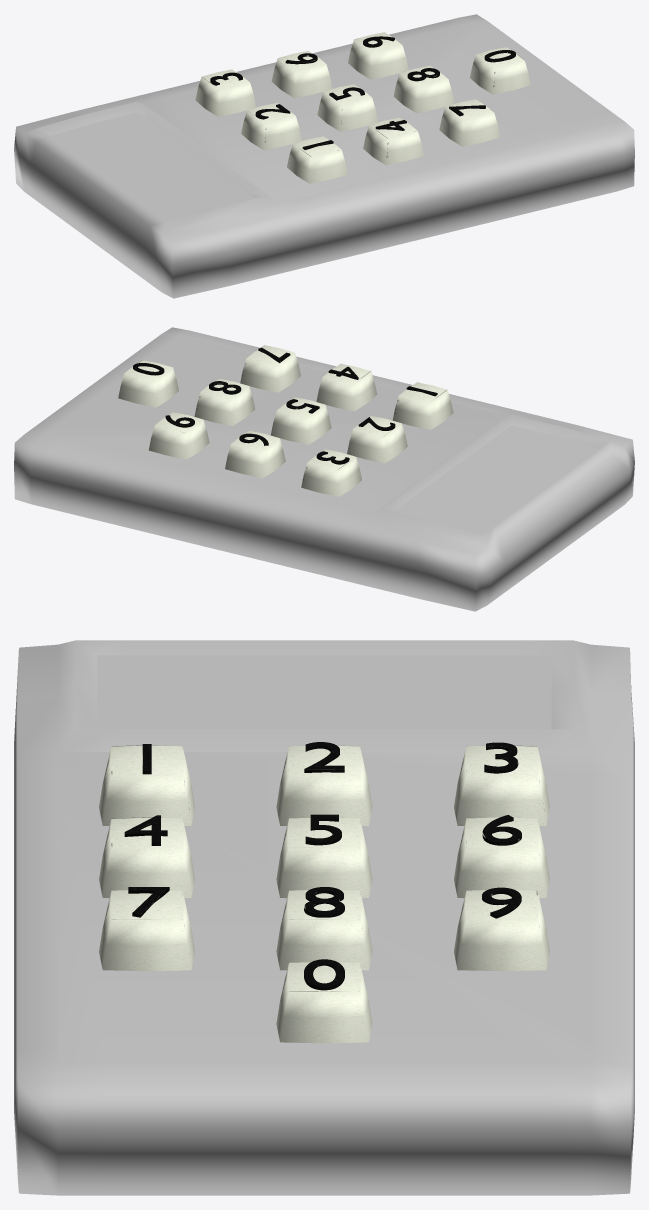
The model's file is KeyPad.fbx.
The picture shows the model from 3 angles, top to bottom: view 1: azimuth 30°, elevation 25°; view 2: azimuth 150°, elevation 25°; view 3: azimuth 270°, elevation 25°; orthographic projection. The views are drawn at different scales.
Parts seen in each view (by area): view 1: KeyPad, Key8, Key0, Key1, Key6, Key9, Key4, Key7, Key3, Key5, Key2; view 2: KeyPad, Key4, Key1, Key8, Key0, Key9, Key7, Key6, Key3, Key5, Key2; view 3: KeyPad, Key7, Key0, Key9, Key3, Key5, Key8, Key1, Key2, Key6, Key4.
Boxes of the visible parts, x1,y1,x2,y2 form: KeyPad: [14, 14, 634, 298]; Key8: [393, 65, 454, 113]; Key0: [470, 47, 530, 94]; Key1: [287, 136, 347, 183]; Key6: [271, 51, 332, 98]; Key9: [348, 32, 408, 79]; Key4: [363, 117, 423, 165]; Key7: [439, 99, 500, 146]; Key3: [195, 69, 256, 116]; Key5: [317, 84, 378, 131]; Key2: [241, 103, 301, 150]; KeyPad: [14, 327, 634, 611]; Key4: [316, 364, 377, 411]; Key1: [392, 382, 453, 429]; Key8: [194, 378, 255, 426]; Key0: [118, 360, 178, 407]; Key9: [148, 412, 209, 459]; Key7: [240, 345, 300, 392]; Key6: [225, 430, 285, 478]; Key3: [301, 449, 361, 496]; Key5: [270, 397, 331, 444]; Key2: [347, 416, 407, 463]; KeyPad: [14, 640, 634, 1195]; Key7: [99, 887, 194, 971]; Key0: [276, 959, 372, 1043]; Key9: [454, 887, 549, 971]; Key3: [454, 742, 549, 825]; Key5: [276, 814, 372, 898]; Key8: [276, 887, 372, 970]; Key1: [99, 744, 194, 825]; Key2: [276, 742, 372, 825]; Key6: [454, 815, 549, 898]; Key4: [99, 815, 194, 898].
Size of the model in its own units: 1123 by 200 by 663.
